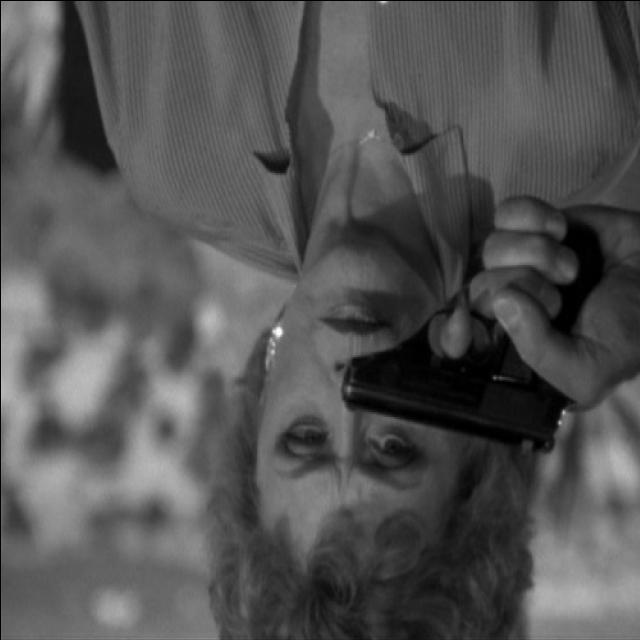weapons: (332, 218, 614, 491)
